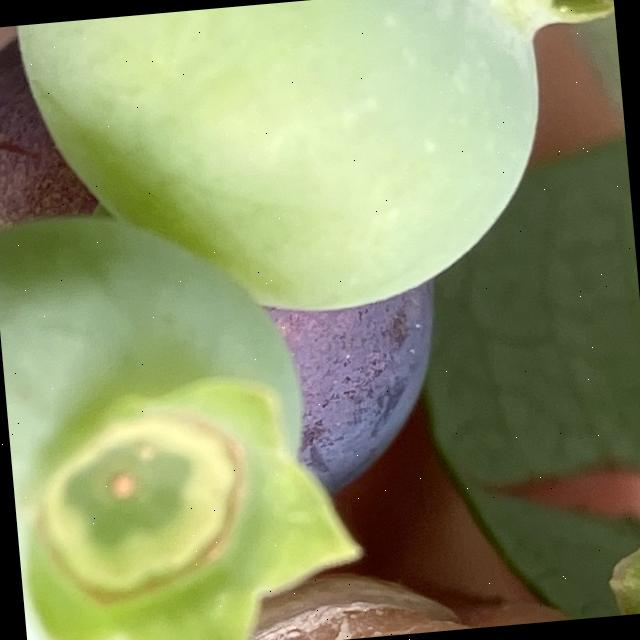Blueberries: (10, 0, 638, 340), (0, 190, 369, 640)
